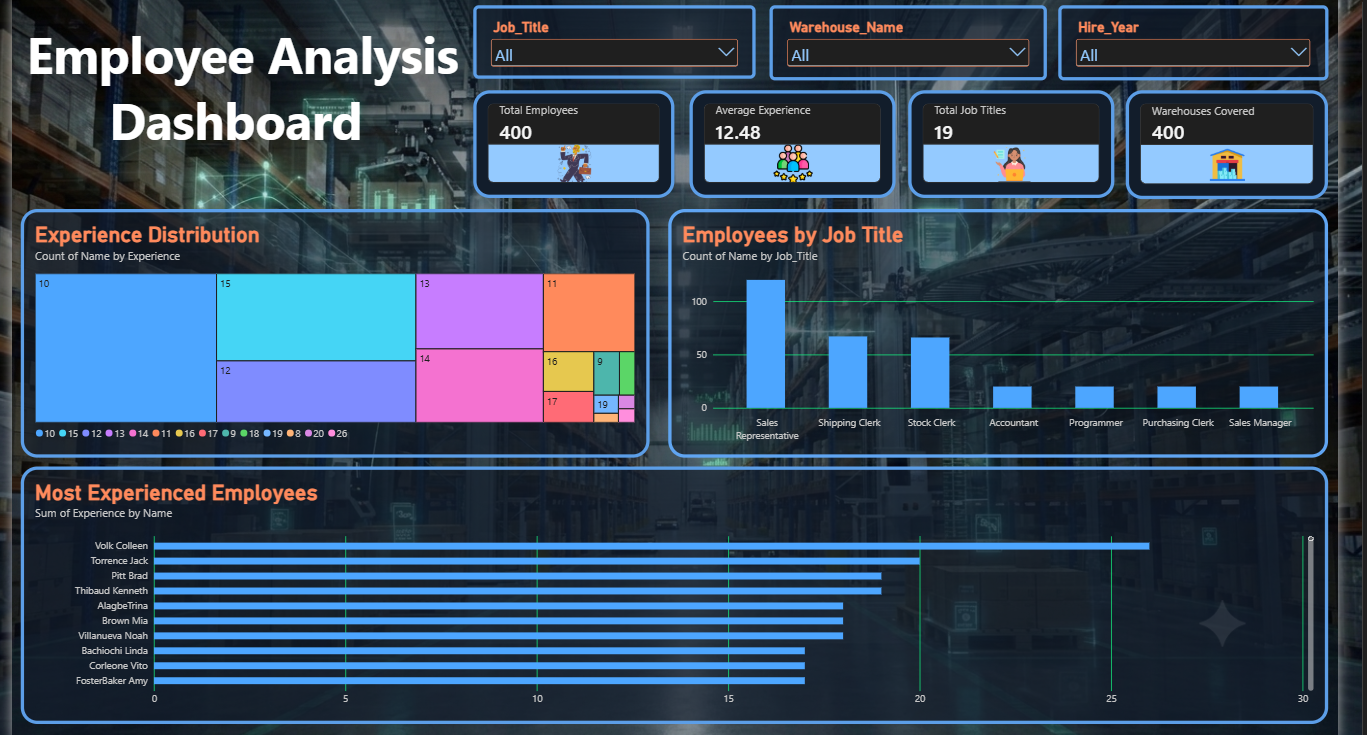

The page's visual inventory and layout, read from the dashboard file:
{"tool":"powerbi","page":{"name":"Employee Analysis","canvas":[1920,1080],"ordinal":2},"visuals":[{"type":"cardVisual","fields":{"Data":["Employee.Total Employees"]},"box":[667.8,139.3,291.4,155.6],"z":0},{"type":"cardVisual","fields":{"Data":["Country.Average Experience"]},"box":[980.8,139.3,298.6,155.6],"z":1000},{"type":"cardVisual","fields":{"Data":["Country.Total Job Titles"]},"box":[1297.5,139.3,298.6,155.6],"z":2000},{"type":"cardVisual","fields":{"Data":["Employee.Warehouses Covered"]},"box":[1612.4,139.3,293.2,157.4],"z":3000},{"type":"clusteredColumnChart","title":"Employees by Job Title","fields":{"Category":["Employee.Job_Title"],"Y":["CountNonNull(Employee.Name)"]},"box":[950.1,311.3,955.5,360.1],"z":4000},{"type":"treemap","title":"Experience Distribution","fields":{"Group":["Employee.Experience"],"Values":["CountNonNull(Employee.Name)"]},"box":[12.7,311.3,910.3,360.1],"z":5000},{"type":"slicer","fields":{"Values":["Employee.Job_Title"]},"box":[667.8,16.3,409,106.8],"z":6000},{"type":"slicer","fields":{"Values":["Warehouse.Warehouse_Name"]},"box":[1096.7,16.3,401.7,108.6],"z":7000},{"type":"slicer","fields":{"Values":["Employee.Hire_Year"]},"box":[1514.7,16.3,390.9,108.6],"z":8000},{"type":"textbox","box":[0,23.5,667.8,271.4],"z":9000},{"type":"clusteredBarChart","title":"Most Experienced Employees","fields":{"Category":["Employee.Name"],"Y":["Sum(Employee.Experience)"]},"box":[12.7,684.1,1892.9,372.8],"z":10000}]}

Visuals, with their boxes on the page's 1920x1080 design canvas (x1, y1, x2, y2). These are canvas units, not pixel positions in the 1367x735 screenshot, which may show the page scaled, cropped or inside an application window:
cardVisual - Employee.Total Employees: region(668, 139, 959, 295)
cardVisual - Country.Average Experience: region(981, 139, 1279, 295)
cardVisual - Country.Total Job Titles: region(1298, 139, 1596, 295)
cardVisual - Employee.Warehouses Covered: region(1612, 139, 1906, 297)
"Employees by Job Title" clusteredColumnChart: region(950, 311, 1906, 671)
"Experience Distribution" treemap: region(13, 311, 923, 671)
slicer - Employee.Job_Title: region(668, 16, 1077, 123)
slicer - Warehouse.Warehouse_Name: region(1097, 16, 1498, 125)
slicer - Employee.Hire_Year: region(1515, 16, 1906, 125)
textbox: region(0, 24, 668, 295)
"Most Experienced Employees" clusteredBarChart: region(13, 684, 1906, 1057)
